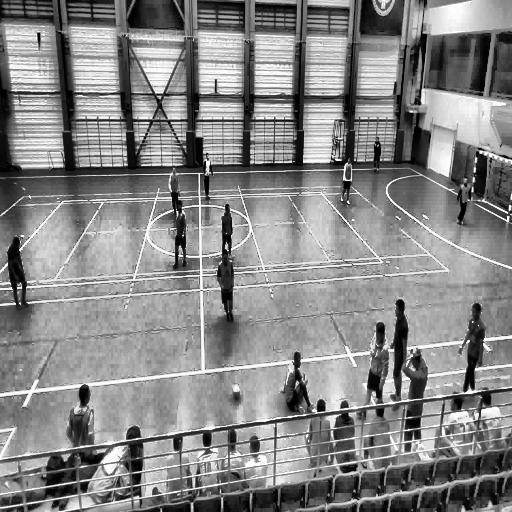ball: (232, 384, 241, 400)
player: (401, 343, 426, 450), (459, 302, 485, 392), (279, 351, 316, 414), (364, 322, 390, 410), (304, 398, 334, 474), (436, 394, 472, 456), (66, 384, 96, 454), (364, 397, 392, 470), (390, 299, 409, 406), (194, 428, 222, 499), (472, 387, 502, 451), (333, 393, 357, 471), (165, 434, 193, 500), (221, 427, 246, 495), (7, 235, 30, 308), (218, 246, 234, 323), (246, 430, 268, 486), (171, 198, 187, 269), (167, 164, 181, 218), (456, 176, 471, 225), (339, 156, 352, 205), (202, 155, 214, 202), (373, 137, 382, 173)
